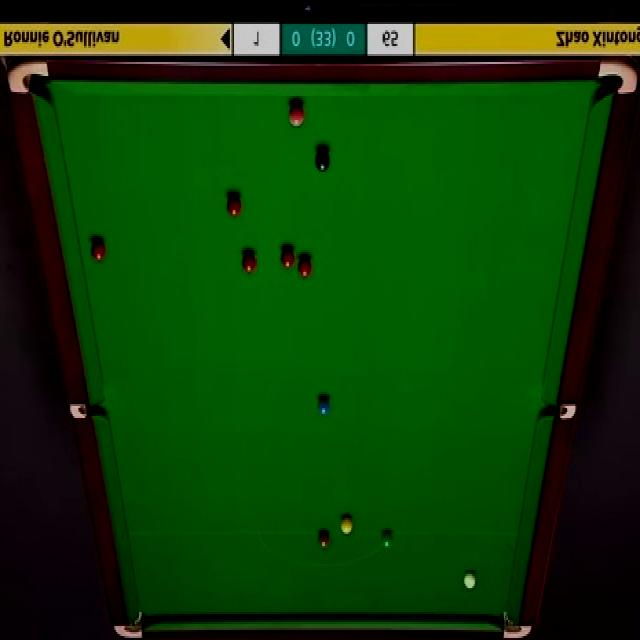black-ball: (314, 149, 330, 172)
blue-ball: (317, 394, 331, 416)
brown-ball: (318, 532, 330, 552)
green-ball: (380, 532, 393, 549)
pink-ball: (287, 100, 307, 130)
red-ball: (88, 234, 106, 262), (279, 244, 295, 272), (226, 193, 242, 220), (240, 250, 257, 274), (297, 256, 311, 279)
white-ball: (463, 571, 476, 590)
yellow-ball: (341, 515, 354, 535)
